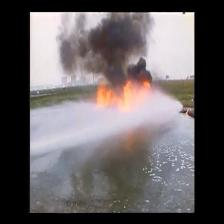smoke: (63, 25, 141, 70)
